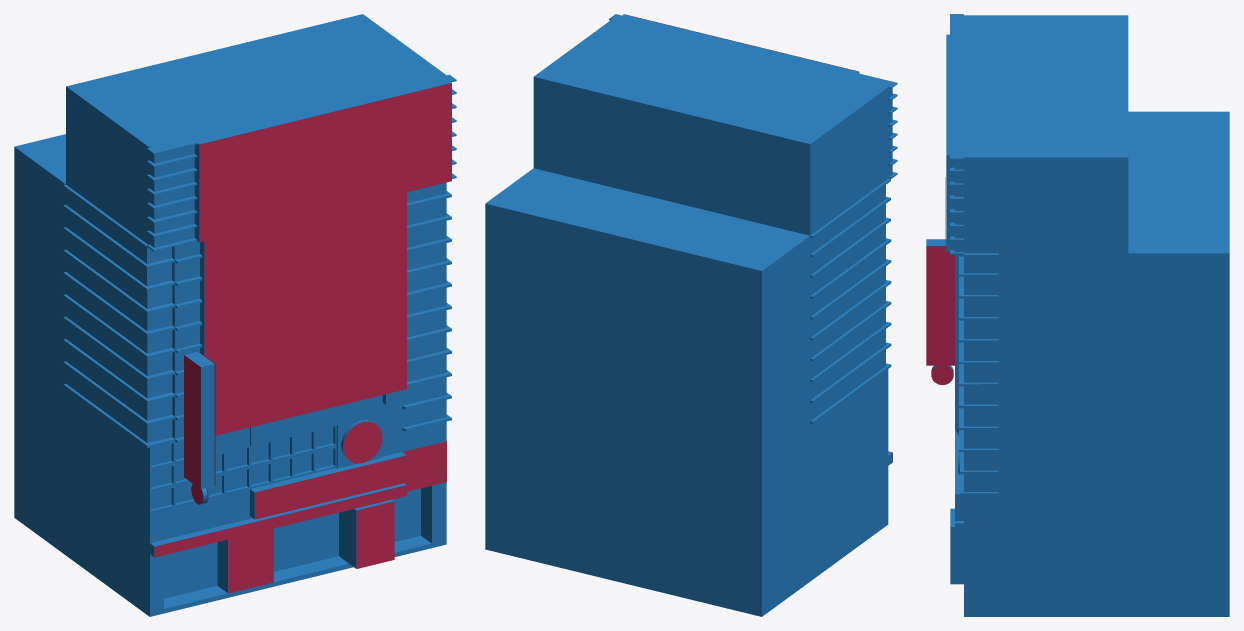
The model's file is TsutayaBucks.FBX.
The picture shows the model from 3 angles, left to right: view 1: azimuth 30°, elevation 25°; view 2: azimuth 150°, elevation 25°; view 3: azimuth 270°, elevation 25°; orthographic projection. The views are drawn at different scales.
Parts seen in each view (by area): view 1: Box001, boards; view 2: Box001; view 3: Box001, boards.
Boxes of the visible parts, <box> form: Box001: <box>14,14,456,616</box>; boards: <box>154,83,451,593</box>; Box001: <box>485,14,897,616</box>; Box001: <box>926,14,1229,616</box>; boards: <box>926,177,954,385</box>.
Size of the model in its own units: 68.16 by 101 by 60.42.
